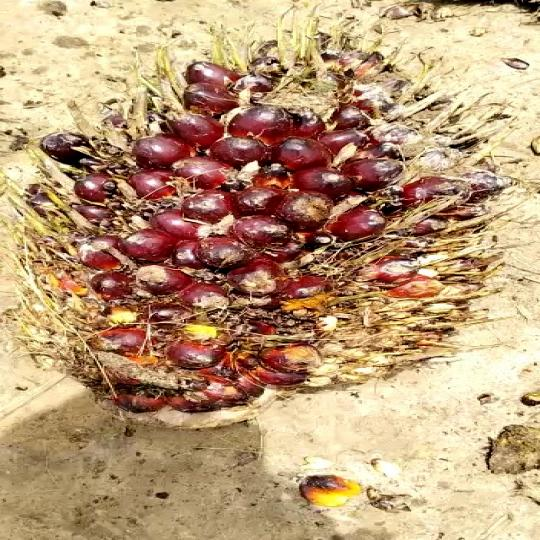kurang masak: (0, 38, 540, 427)
